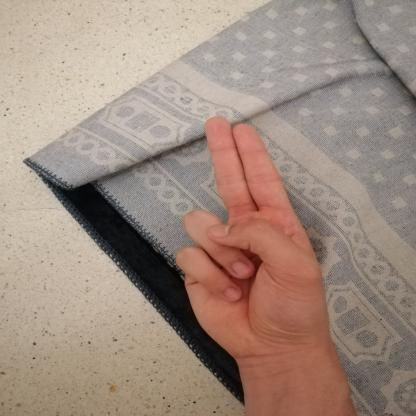TA: (158, 107, 350, 372)
